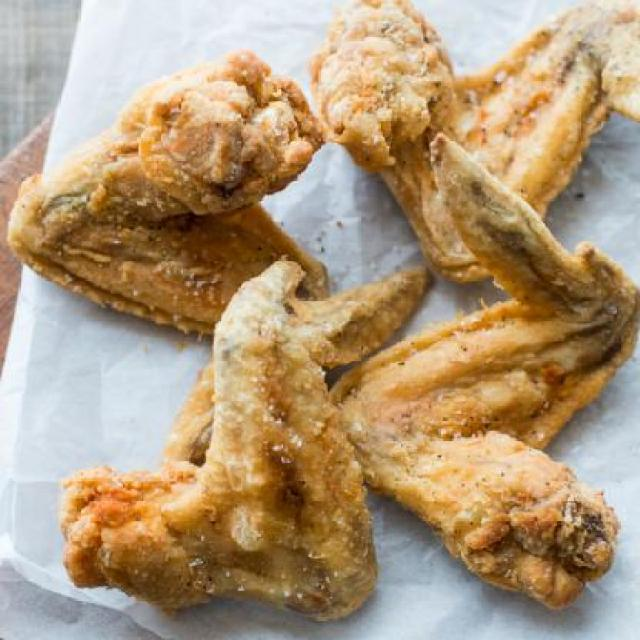Wet Waste: (329, 142, 634, 603), (0, 48, 434, 354), (59, 256, 386, 622), (311, 0, 638, 280)
